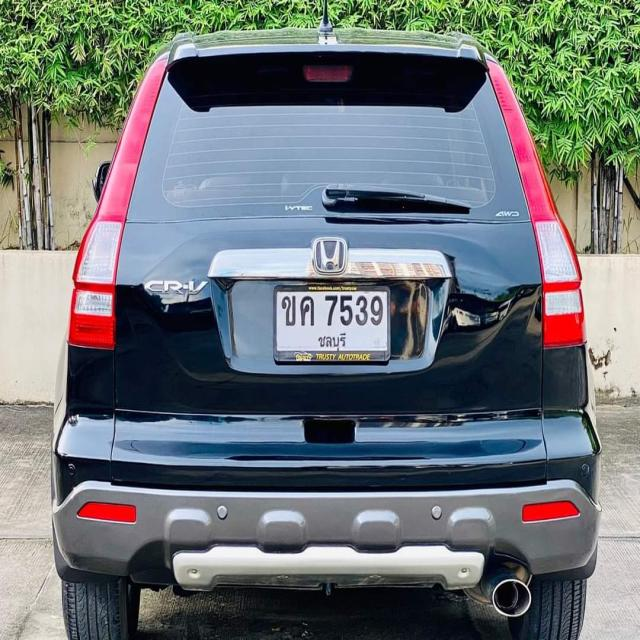license_plate: (273, 284, 393, 365)
